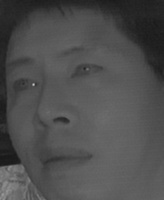eye: (69, 62, 105, 82), (10, 76, 41, 97)
mouth: (36, 143, 93, 174)
